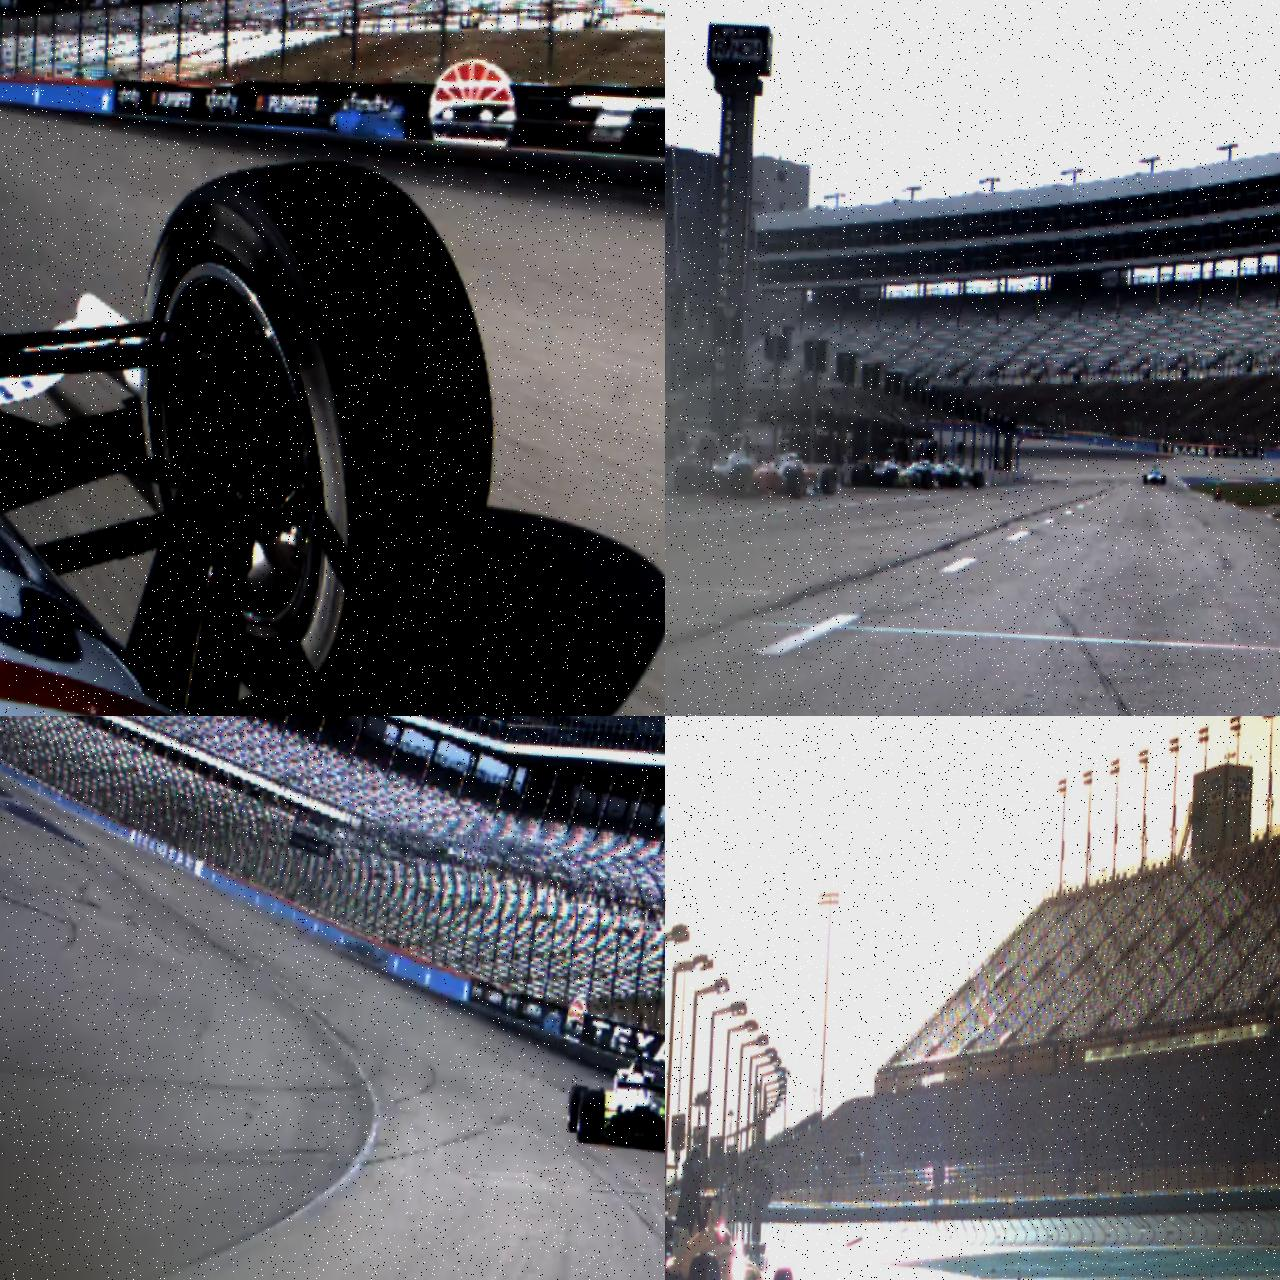AV: (665, 1183, 811, 1280), (565, 1041, 665, 1155), (1143, 464, 1166, 485)
Wheel: (120, 147, 506, 716), (576, 1089, 605, 1144), (686, 1250, 722, 1280), (566, 1084, 588, 1133), (673, 464, 699, 495), (731, 467, 753, 496), (787, 469, 804, 498), (821, 468, 837, 495), (768, 1267, 795, 1280), (883, 468, 898, 486), (972, 470, 983, 489), (949, 470, 961, 489), (921, 472, 933, 489), (1160, 475, 1165, 485), (1143, 474, 1146, 484)
